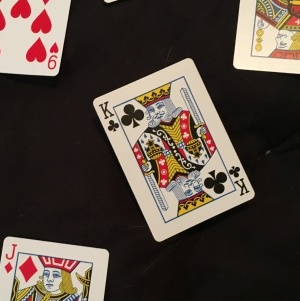card: (90, 58, 257, 243)
